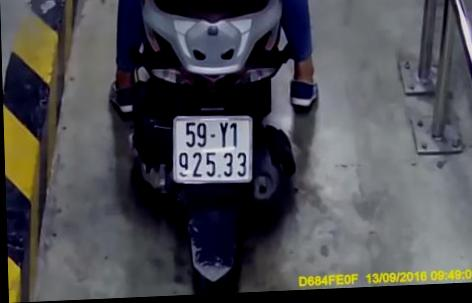License_Plate: (162, 108, 259, 197)
